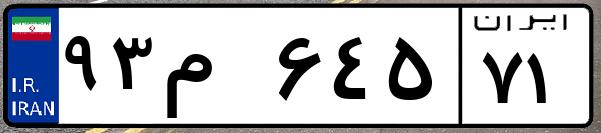1: (525, 38, 570, 115)
3: (110, 28, 158, 98)
4: (330, 28, 385, 110)
5: (385, 28, 445, 110)
6: (270, 28, 330, 110)
7: (475, 38, 525, 113)
9: (57, 26, 110, 100)
م: (158, 20, 270, 120)
